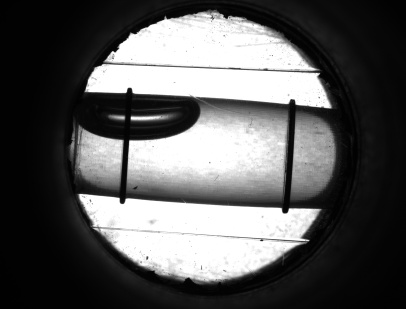line: (278, 117, 300, 196), (116, 143, 132, 185)
